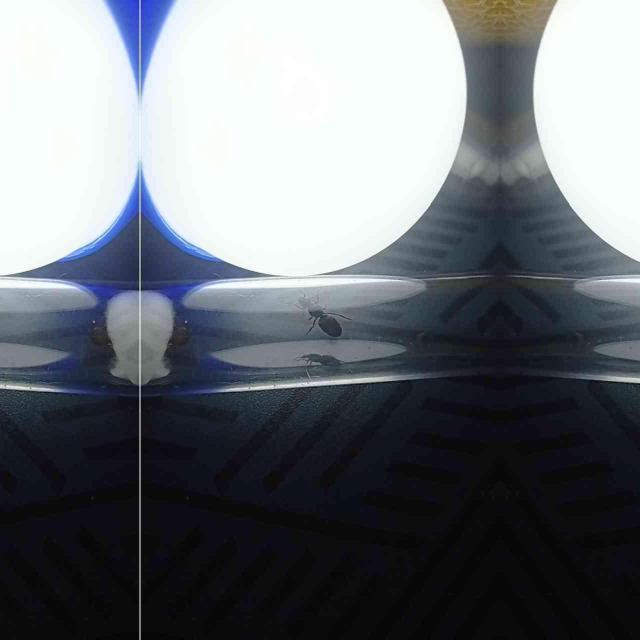Lasius: (293, 287, 345, 339)
